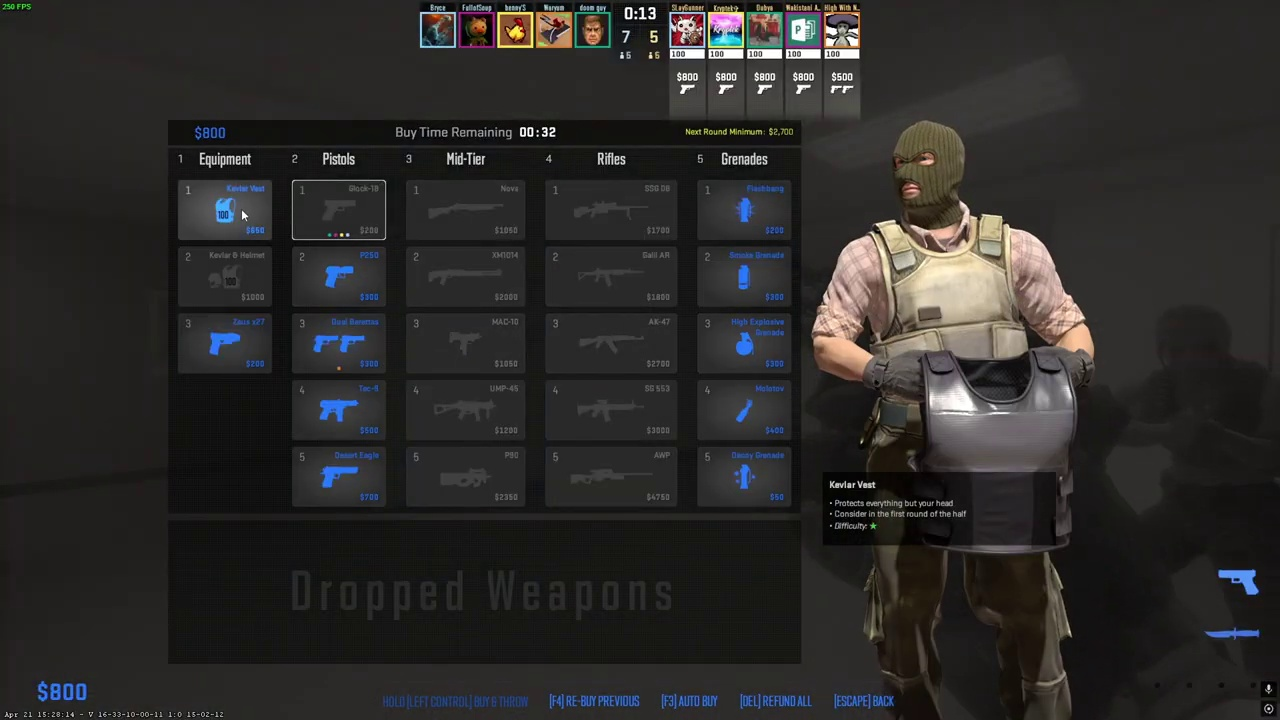Terrorist: (852, 120, 1082, 720)
